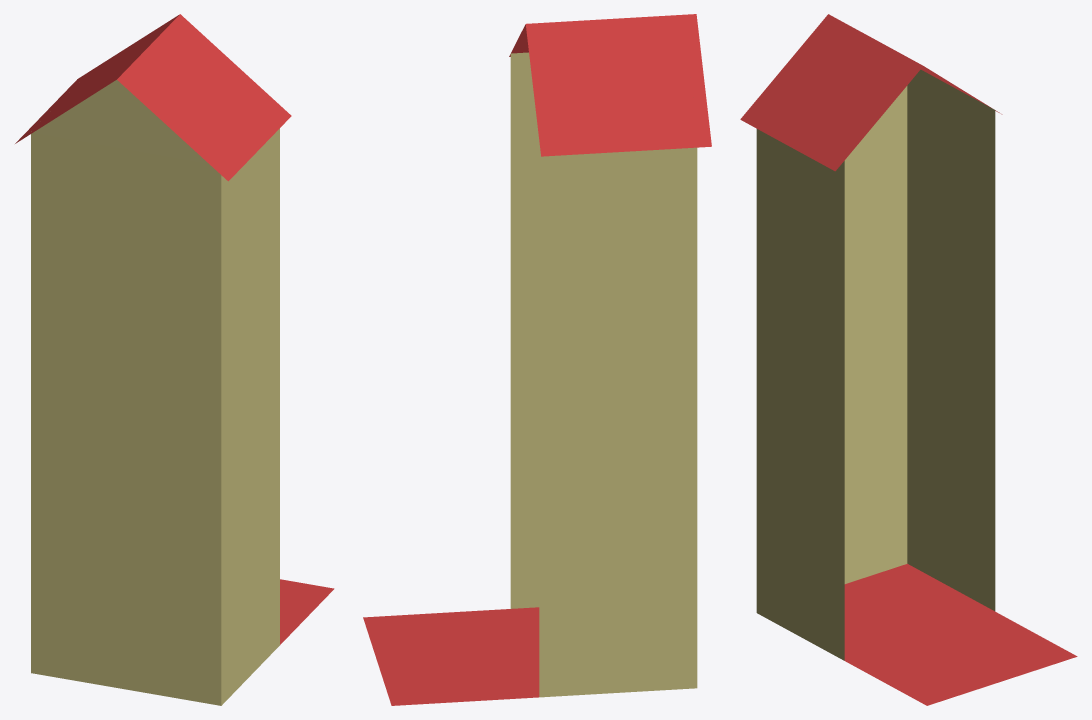
3 renders of one model, left to right at view 1: azimuth 30°, elevation 25°; view 2: azimuth 150°, elevation 25°; view 3: azimuth 270°, elevation 25°, orthographic. The views are drawn at different scales.
Size of the model in its own units: 7.43 by 7.1 by 13.22.
